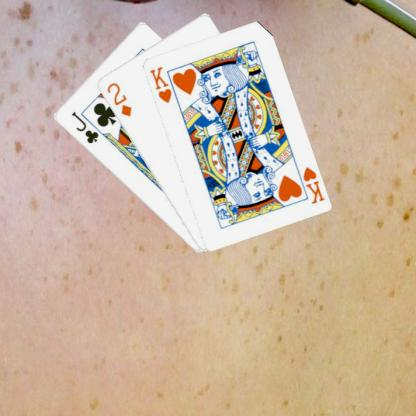2D: (104, 79, 134, 118)
JC: (68, 109, 100, 145)
KH: (147, 64, 173, 104), (300, 164, 325, 205)
